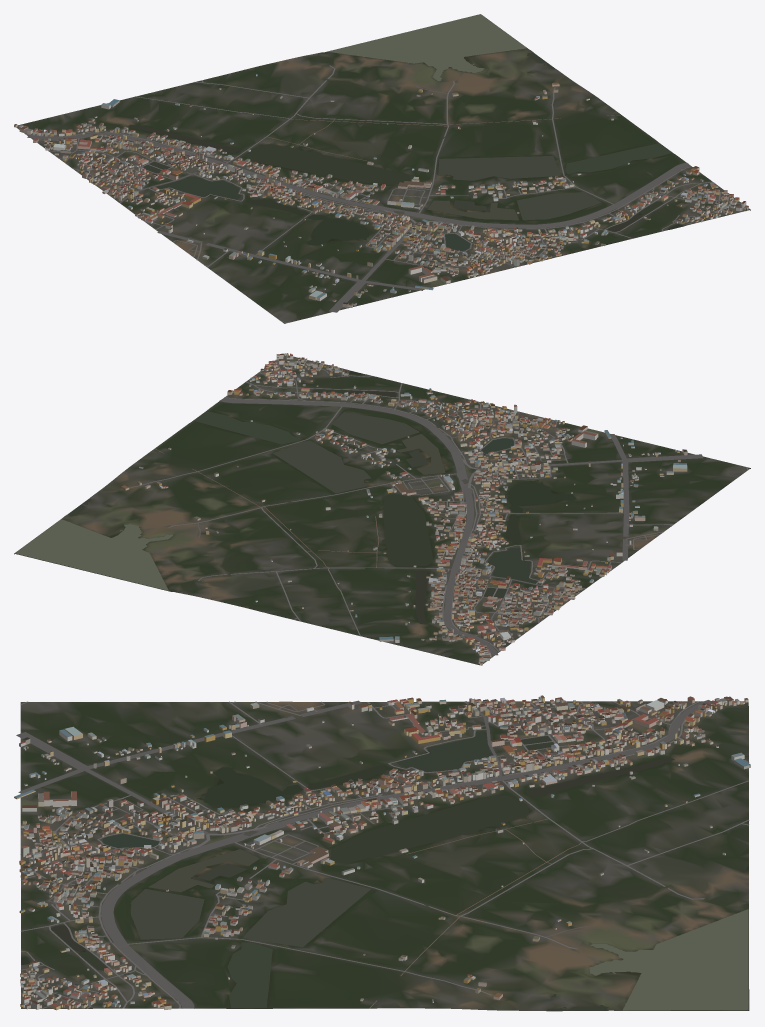
3 renders of one model, top to bottom at view 1: azimuth 30°, elevation 25°; view 2: azimuth 150°, elevation 25°; view 3: azimuth 270°, elevation 25°, orthographic. The views are drawn at different scales.
Visible parts, largest first — view 1: ground, buildings, water, roads; view 2: ground, buildings, water, roads; view 3: ground, buildings, water, roads.
Part boxes in pixels (<box>): ground: <box>16,15,750,323</box>; buildings: <box>14,74,748,307</box>; water: <box>128,14,683,250</box>; roads: <box>25,65,740,322</box>; ground: <box>14,354,750,665</box>; buildings: <box>121,353,687,665</box>; water: <box>15,370,576,623</box>; roads: <box>131,359,748,657</box>; ground: <box>20,701,749,1011</box>; buildings: <box>14,695,750,1010</box>; water: <box>21,731,748,1010</box>; roads: <box>16,700,749,1008</box>.
Bounding box in the file's own units: 1414 × 27.59 × 1419.
